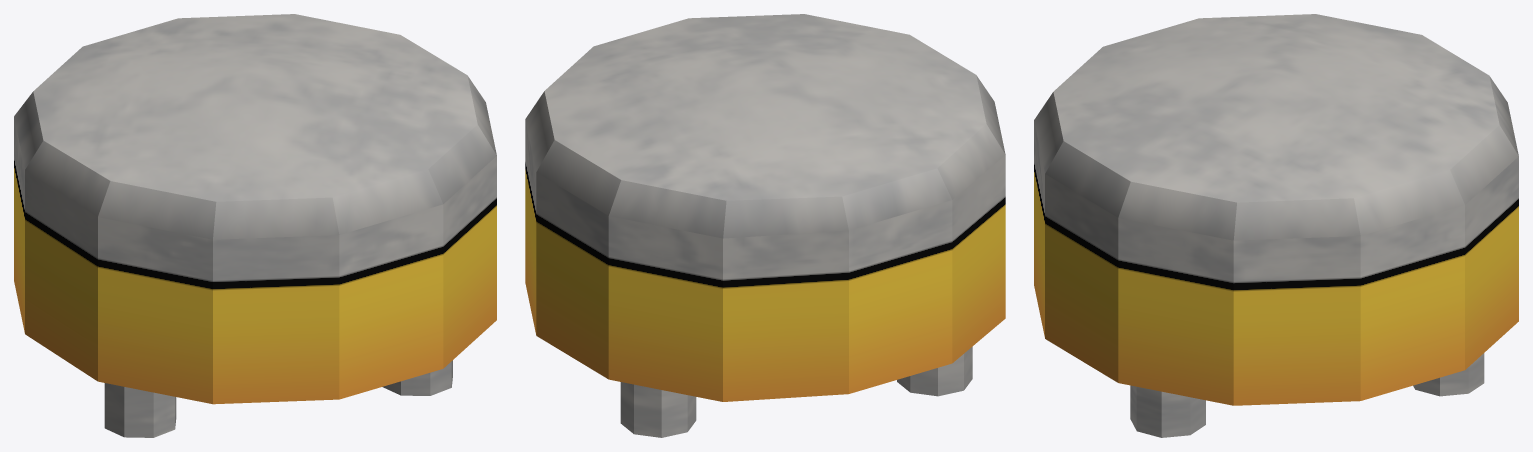
File: Refuel_01.fbx
The picture shows the model from 3 angles, left to right: view 1: azimuth 30°, elevation 25°; view 2: azimuth 150°, elevation 25°; view 3: azimuth 270°, elevation 25°; orthographic projection.
Visible parts, largest first — view 1: Refuel_01; view 2: Refuel_01; view 3: Refuel_01.
Boxes of the visible parts, bbox=[...] form: Refuel_01: bbox=[14, 14, 496, 437]; Refuel_01: bbox=[525, 14, 1005, 437]; Refuel_01: bbox=[1034, 14, 1518, 437].
Bounding box in the file's own units: 14.39 × 9.57 × 14.39.
